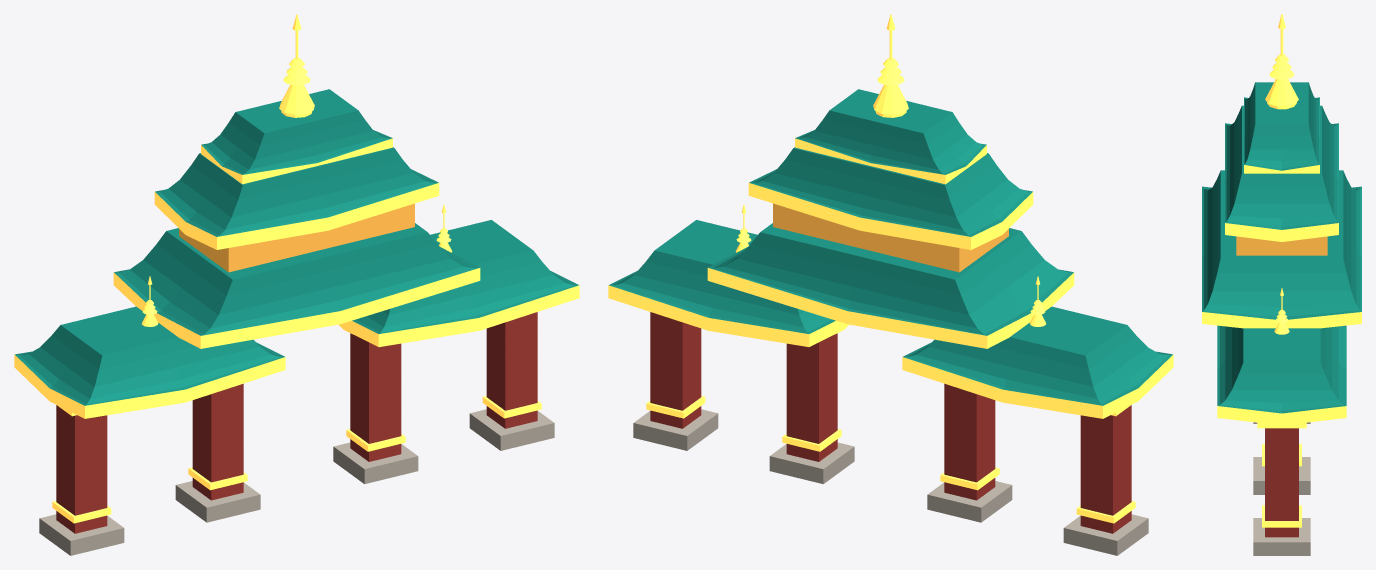
File: gate.glb
The picture shows the model from 3 angles, left to right: view 1: azimuth 30°, elevation 25°; view 2: azimuth 150°, elevation 25°; view 3: azimuth 270°, elevation 25°; orthographic projection. The views are drawn at different scales.
Visible parts, largest first — view 1: gate; view 2: gate; view 3: gate.
Boxes of the visible parts, left/top/right/bottom form: gate: left=14, top=14, right=579, bottom=555; gate: left=608, top=14, right=1173, bottom=555; gate: left=1202, top=14, right=1361, bottom=555.
Size of the model in its own units: 13.8 by 12.56 by 4.2.
